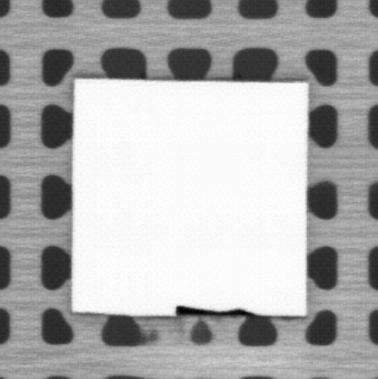DIE_BROKEN: (173, 302, 256, 318)
